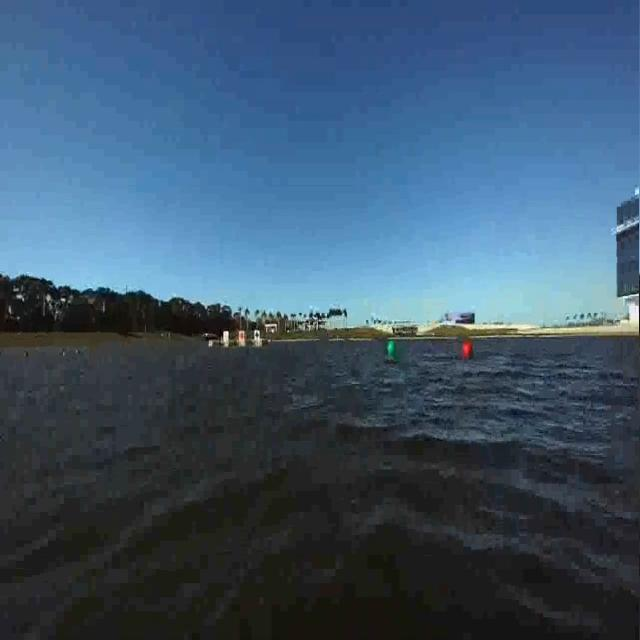green-buoy: (384, 341, 394, 357)
red-column-buoy: (464, 341, 476, 363)
